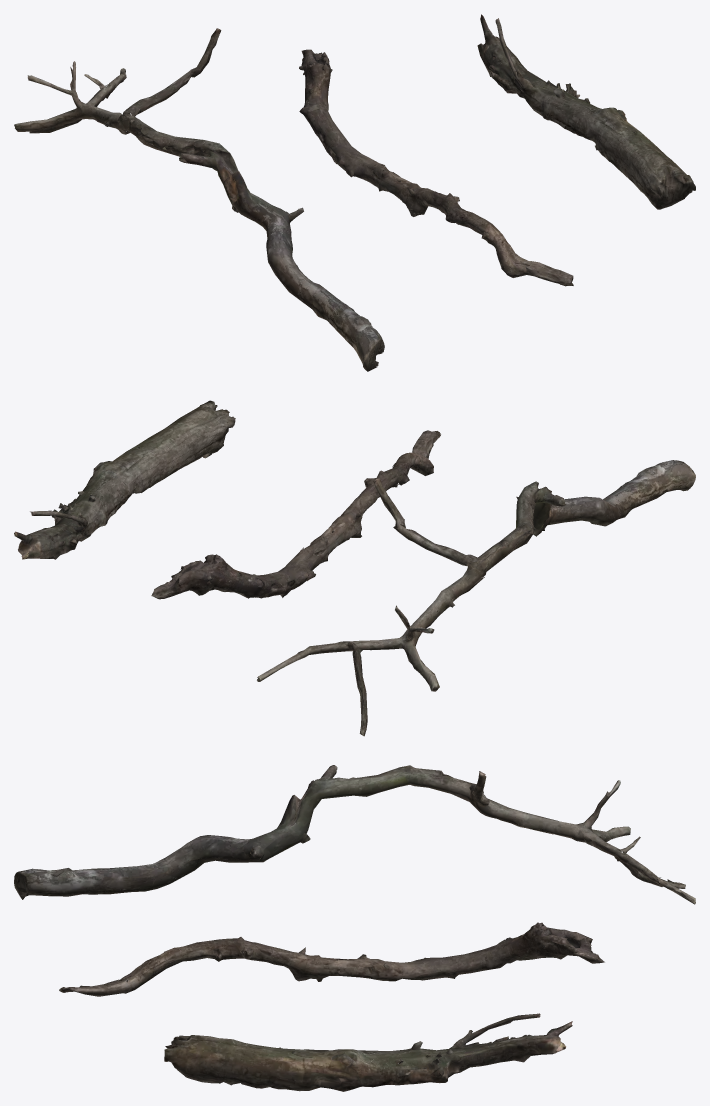
File: dry_branches_medium_01.glb
3 views of the same model, one above another, from view 1: azimuth 30°, elevation 25°; view 2: azimuth 150°, elevation 25°; view 3: azimuth 270°, elevation 25° (orthographic). The views are drawn at different scales.
Parts seen in each view (by area): view 1: dry_branches_medium_01_a, dry_branches_medium_01_c, dry_branches_medium_01_b; view 2: dry_branches_medium_01_a, dry_branches_medium_01_c, dry_branches_medium_01_b; view 3: dry_branches_medium_01_a, dry_branches_medium_01_c, dry_branches_medium_01_b.
Boxes of the visible parts, x1=… form: dry_branches_medium_01_a: x1=14, y1=28, x2=384, y2=371; dry_branches_medium_01_c: x1=477, y1=14, x2=695, y2=209; dry_branches_medium_01_b: x1=299, y1=49, x2=573, y2=286; dry_branches_medium_01_a: x1=257, y1=460, x2=695, y2=736; dry_branches_medium_01_c: x1=14, y1=400, x2=235, y2=559; dry_branches_medium_01_b: x1=151, y1=430, x2=440, y2=599; dry_branches_medium_01_a: x1=14, y1=765, x2=695, y2=904; dry_branches_medium_01_c: x1=164, y1=1013, x2=572, y2=1091; dry_branches_medium_01_b: x1=59, y1=922, x2=604, y2=996.
Bounding box in the file's own units: 1.06 × 0.3403 × 1.3.
1 material, 1 textured.
